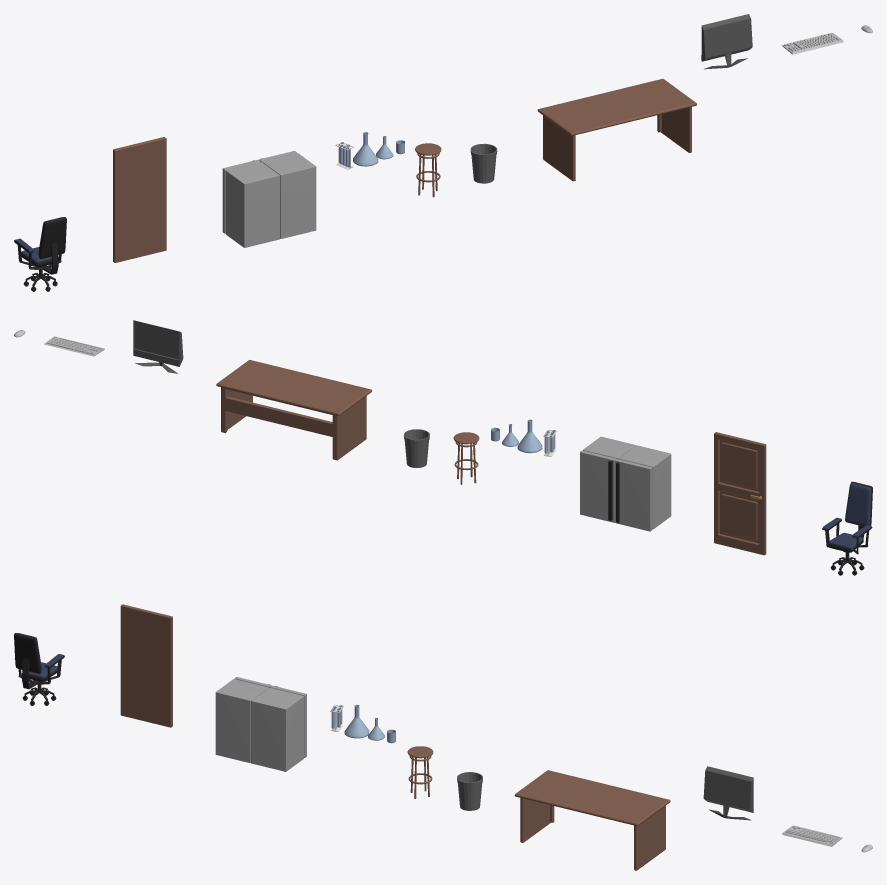
Rendered from LowPolyLabAssets.fbx.
3 renders of one model, top to bottom at view 1: azimuth 30°, elevation 25°; view 2: azimuth 150°, elevation 25°; view 3: azimuth 330°, elevation 25°, orthographic. The views are drawn at different scales.
Parts seen in each view (by area): view 1: pCube310, pCube21, pCube306, pCube304, pCube22, pCube19, round_bin, pCube135; view 2: pCube310, pCube21, pCube306, pCube22, pCube304, pCube19, pCube131, round_bin; view 3: pCube310, pCube21, pCube304, pCube306, pCube22, pCube19, round_bin, pCube135.
Part boxes in pixels (<box>): pCube310: <box>113,137,166,262</box>; pCube21: <box>537,78,696,135</box>; pCube306: <box>222,159,279,247</box>; pCube304: <box>259,151,316,238</box>; pCube22: <box>543,107,691,181</box>; pCube19: <box>701,14,752,61</box>; round_bin: <box>470,143,497,183</box>; pCube135: <box>39,217,66,258</box>; pCube310: <box>714,432,766,555</box>; pCube21: <box>216,360,372,415</box>; pCube306: <box>615,445,671,531</box>; pCube22: <box>221,387,366,460</box>; pCube304: <box>580,436,635,522</box>; pCube19: <box>133,320,183,366</box>; pCube131: <box>845,483,871,526</box>; round_bin: <box>403,429,429,467</box>; pCube310: <box>120,604,172,727</box>; pCube21: <box>514,770,670,826</box>; pCube304: <box>251,685,306,771</box>; pCube306: <box>215,677,271,763</box>; pCube22: <box>520,798,665,870</box>; pCube19: <box>703,766,753,812</box>; round_bin: <box>457,772,482,810</box>; pCube135: <box>14,633,41,673</box>.
Bounding box in the file's own units: 111 × 14.69 × 8.39.
